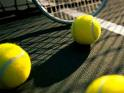tennis ball: (1, 41, 33, 91), (71, 13, 102, 46), (82, 72, 124, 92)
